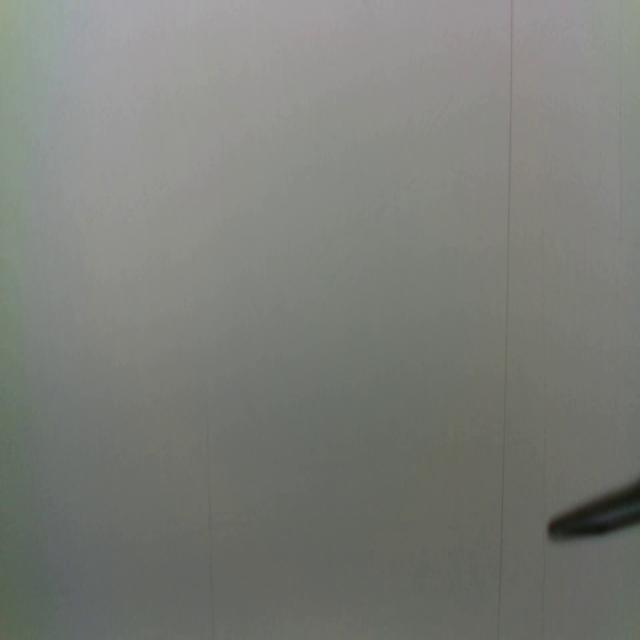crease: (494, 0, 516, 637), (536, 228, 550, 640), (204, 413, 216, 610), (616, 38, 626, 265)
